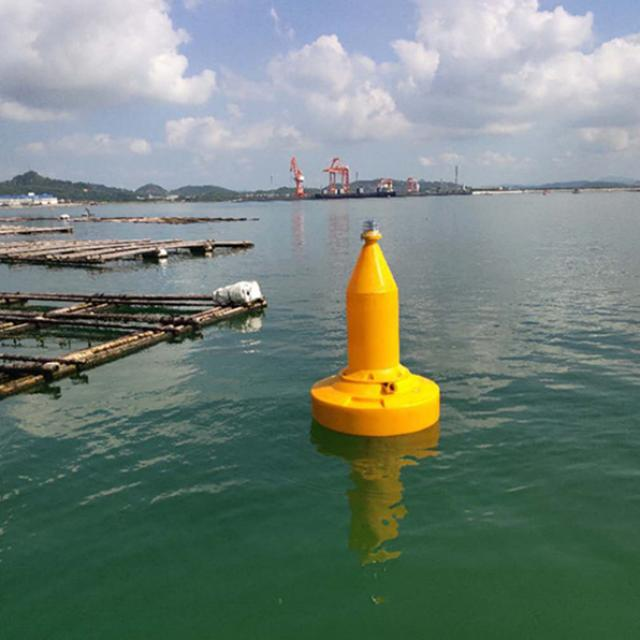buoy: (305, 214, 448, 440)
